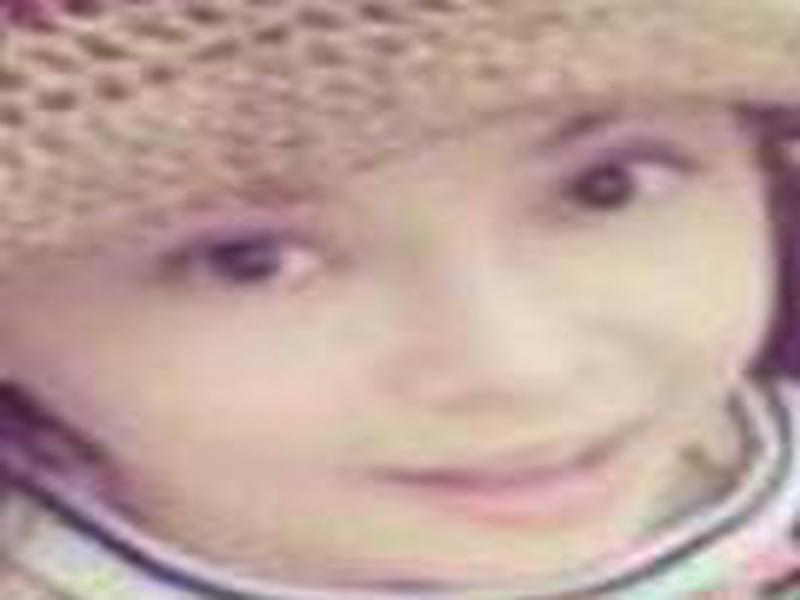without_mask: (17, 110, 785, 585)
